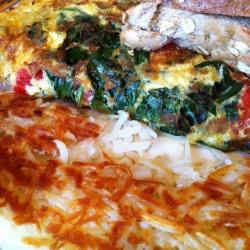omelette: (12, 12, 239, 136)
